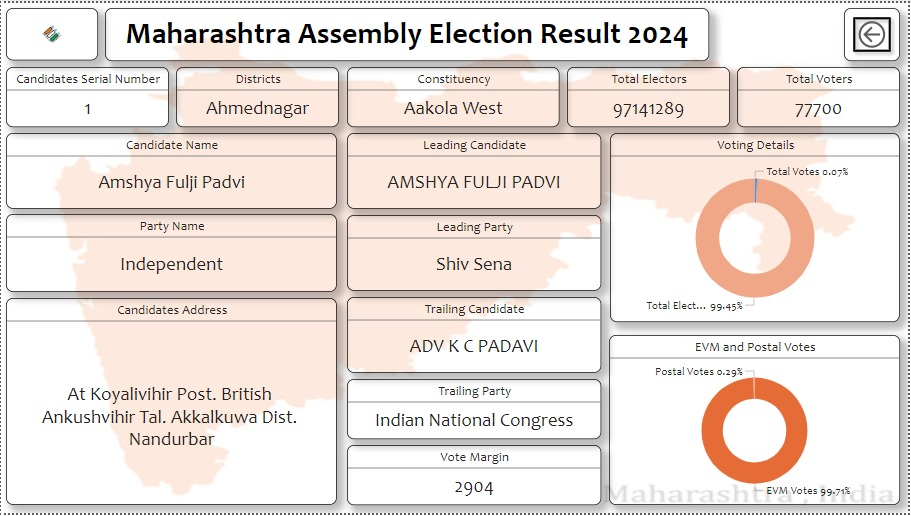

What the dashboard file says about the page in this screenshot:
{"tool":"powerbi","page":{"name":"Candidate Details","canvas":[1280,720],"ordinal":1},"visuals":[{"type":"card","title":"Candidates Serial Number","fields":{"Values":["Sum(Fact_Table.Serial Number)"]},"box":[7.1,90.4,230,85],"z":0},{"type":"image","box":[7.1,7.1,130,74.3],"z":1000},{"type":"textbox","box":[146.7,6.7,853.3,75],"z":2000},{"type":"card","title":"Constituency","fields":{"Values":["Min(Electors_Dim.Constituency Name)"]},"box":[488.1,90.4,300,85],"z":3000},{"type":"card","title":"Party Name","fields":{"Values":["Min(Fact_Table.Party)"]},"box":[6.8,297.6,467.3,110.1],"z":4000},{"type":"card","title":"Districts","fields":{"Values":["Min(Electors_Dim.District Name)"]},"box":[247.6,90.1,230,85],"z":5000},{"type":"card","title":"Total Electors","fields":{"Values":["Calculated Measures.Total Electors"]},"box":[798.6,90.4,230,85],"z":6000},{"type":"donutChart","title":"Voting Details","fields":{"Y":["Sum(Candidate_Dim.Total Votes Done)","Sum(Nota_Dim.Total Nota Votes)","Sum(Electors_Dim.Total Electors)"]},"box":[859.8,183.5,409.4,266.8],"z":7000},{"type":"card","title":"Total Voters","fields":{"Values":["Calculated Measures.Voting"]},"box":[1039.1,90.4,230,85],"z":8000},{"type":"donutChart","title":"EVM and Postal Votes","fields":{"Y":["Calculated Measures.EVM Votes","Calculated Measures.Postal Votes"]},"box":[858.4,468.7,410.8,240],"z":9000},{"type":"card","title":"Candidate Name","fields":{"Values":["Min(Candidate_Dim.Candidate Name)"]},"box":[6.8,183.2,467.3,107.3],"z":10000},{"type":"actionButton","box":[1190.1,7.1,79.1,74.8],"z":11000},{"type":"card","title":"Candidates Address","fields":{"Values":["Min(Candidate_Dim.Address)"]},"box":[7.1,416.5,467.3,292.2],"z":12000},{"type":"card","title":"Leading Candidate","fields":{"Values":["Min(Fact_Table.Leading Candidate)"]},"box":[488.2,183.2,358.6,107.3],"z":13000},{"type":"card","title":"Leading Party","fields":{"Values":["Min(Fact_Table.Leading Party)"]},"box":[488.2,299,358.6,107.3],"z":14000},{"type":"card","title":"Trailing Candidate","fields":{"Values":["Min(Fact_Table.Trailing Candidate)"]},"box":[488.2,414.8,358.6,107.3],"z":15000},{"type":"card","title":"Trailing Party","fields":{"Values":["Min(Fact_Table.Trailing Party)"]},"box":[488.2,530.5,358.6,85],"z":16000},{"type":"card","title":"Vote Margin","fields":{"Values":["Sum(Fact_Table.Margin)"]},"box":[488.5,624,358.6,84.7],"z":17000}]}

Visuals, with their boxes in screenshot pixels (x1, y1, x2, y2), scaled from the page's 1280x720 canvas onto the 911x516 screenshot:
"Candidates Serial Number" card: left=5, top=65, right=169, bottom=126
image: left=5, top=5, right=98, bottom=58
textbox: left=104, top=5, right=712, bottom=59
"Constituency" card: left=347, top=65, right=561, bottom=126
"Party Name" card: left=5, top=213, right=337, bottom=292
"Districts" card: left=176, top=65, right=340, bottom=125
"Total Electors" card: left=568, top=65, right=732, bottom=126
"Voting Details" donutChart: left=612, top=132, right=903, bottom=323
"Total Voters" card: left=740, top=65, right=903, bottom=126
"EVM and Postal Votes" donutChart: left=611, top=336, right=903, bottom=508
"Candidate Name" card: left=5, top=131, right=337, bottom=208
actionButton: left=847, top=5, right=903, bottom=59
"Candidates Address" card: left=5, top=298, right=338, bottom=508
"Leading Candidate" card: left=347, top=131, right=603, bottom=208
"Leading Party" card: left=347, top=214, right=603, bottom=291
"Trailing Candidate" card: left=347, top=297, right=603, bottom=374
"Trailing Party" card: left=347, top=380, right=603, bottom=441
"Vote Margin" card: left=348, top=447, right=603, bottom=508
